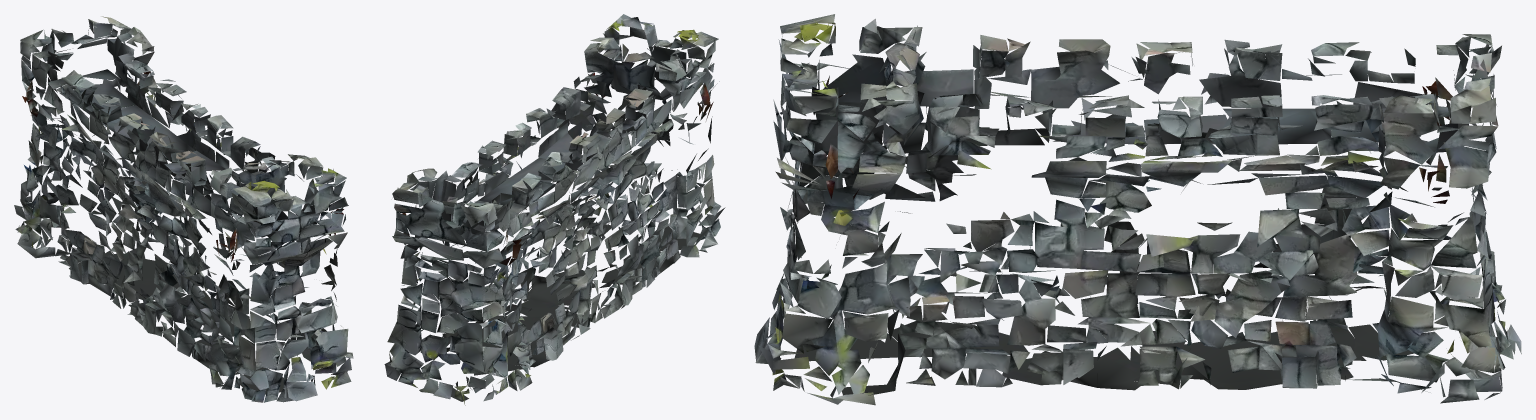
Rendered from tripo-muro154.glb.
The picture shows the model from 3 angles, left to right: view 1: azimuth 30°, elevation 25°; view 2: azimuth 150°, elevation 25°; view 3: azimuth 270°, elevation 25°; orthographic projection. The views are drawn at different scales.
Visible parts, largest first — view 1: tripo_node_3a861232-79de-44b3-a147-8082ef5fb217; view 2: tripo_node_3a861232-79de-44b3-a147-8082ef5fb217; view 3: tripo_node_3a861232-79de-44b3-a147-8082ef5fb217.
Part boxes in pixels (x1,y1,x2,y2): tripo_node_3a861232-79de-44b3-a147-8082ef5fb217: [14, 16, 353, 402]; tripo_node_3a861232-79de-44b3-a147-8082ef5fb217: [384, 14, 725, 405]; tripo_node_3a861232-79de-44b3-a147-8082ef5fb217: [754, 14, 1521, 405].
Size of the model in its own units: 0.289 by 0.4682 by 0.9805.
Materials: 1 (1 with a texture image).
